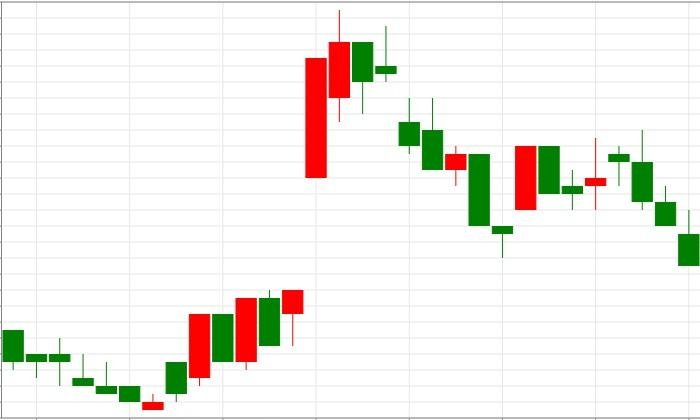three_black_crows_fall: (491, 130, 676, 266)
